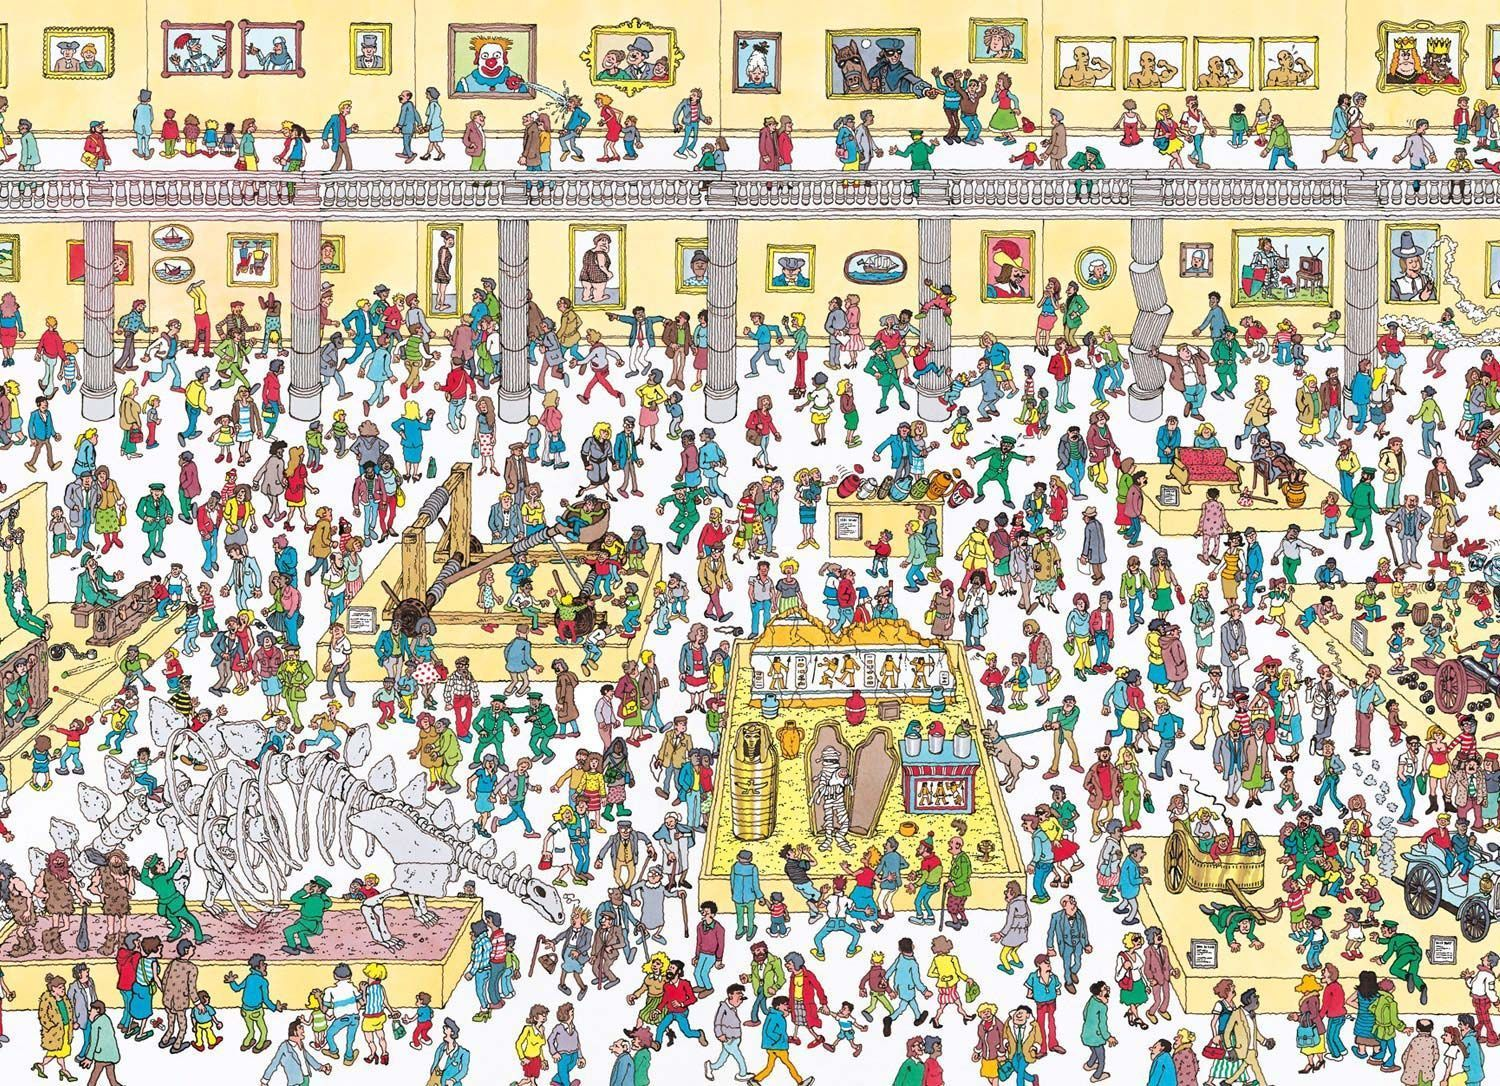charlie: (1452, 711, 1483, 741)
